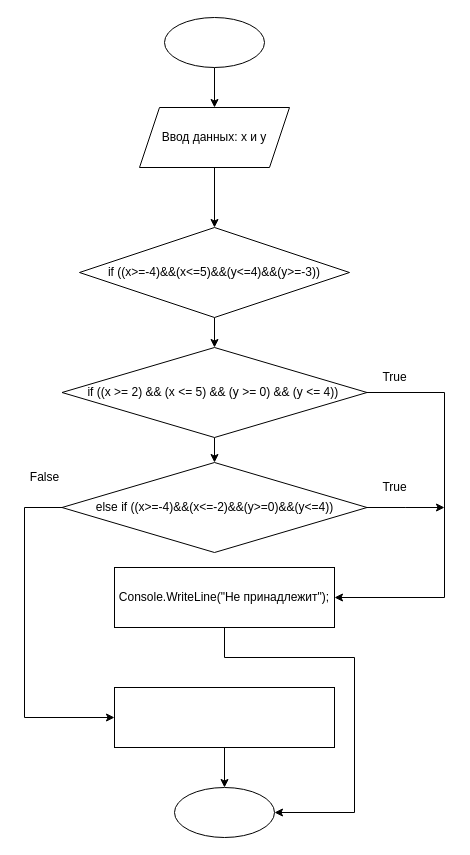
Image size: 470x855. Some labels were removed from this diagram. Here are the shapes that lost their labels. From the top down, the box of each, then its label:
(164, 16, 264, 68): Начало
(114, 686, 334, 748): Console.WriteLine("Принадлежит");
(174, 786, 274, 838): Конец
